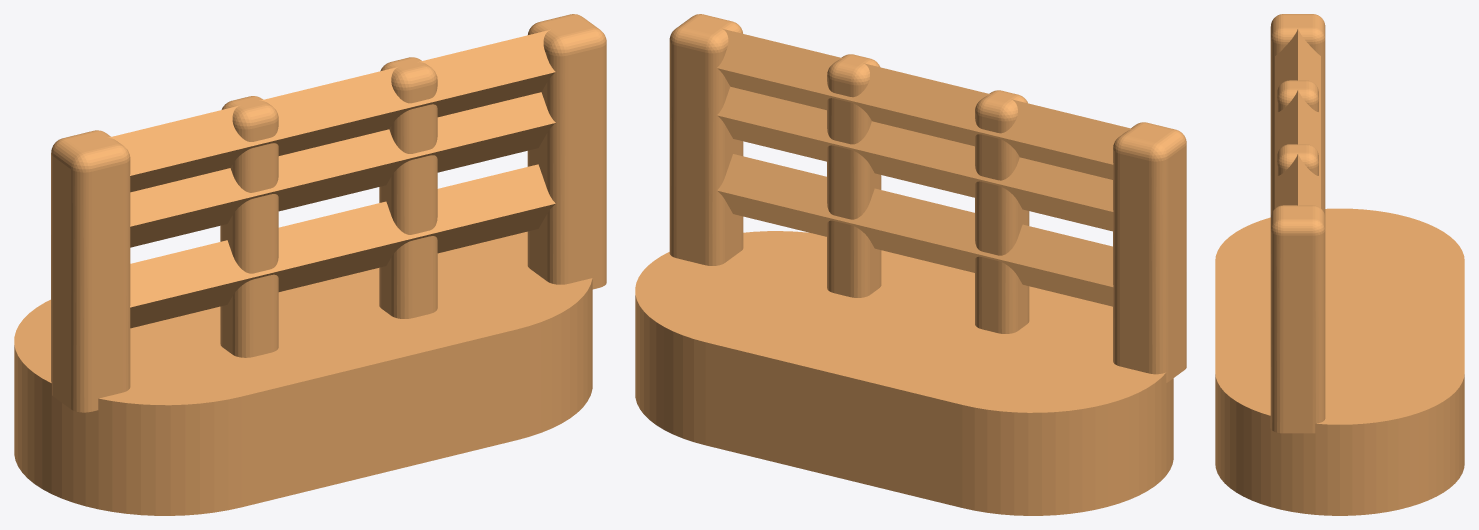
The model's file is racer-bull-bar.glb.
The picture shows the model from 3 angles, left to right: view 1: azimuth 30°, elevation 25°; view 2: azimuth 150°, elevation 25°; view 3: azimuth 270°, elevation 25°; orthographic projection. The views are drawn at different scales.
Visible parts, largest first — view 1: racer-bull-bar; view 2: racer-bull-bar; view 3: racer-bull-bar.
Boxes of the visible parts, x1=… form: racer-bull-bar: x1=14, y1=14, x2=606, y2=515; racer-bull-bar: x1=635, y1=14, x2=1186, y2=515; racer-bull-bar: x1=1215, y1=14, x2=1464, y2=515.
Bounding box in the file's own units: 0.0244 × 0.0153 × 0.0119.
